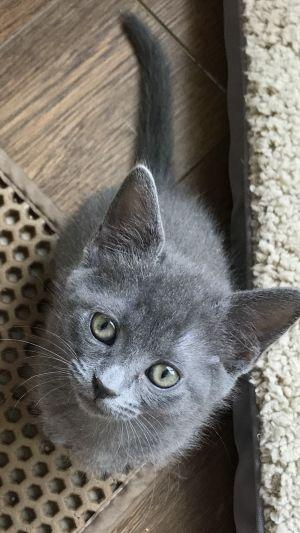rblue: (12, 152, 300, 476)
